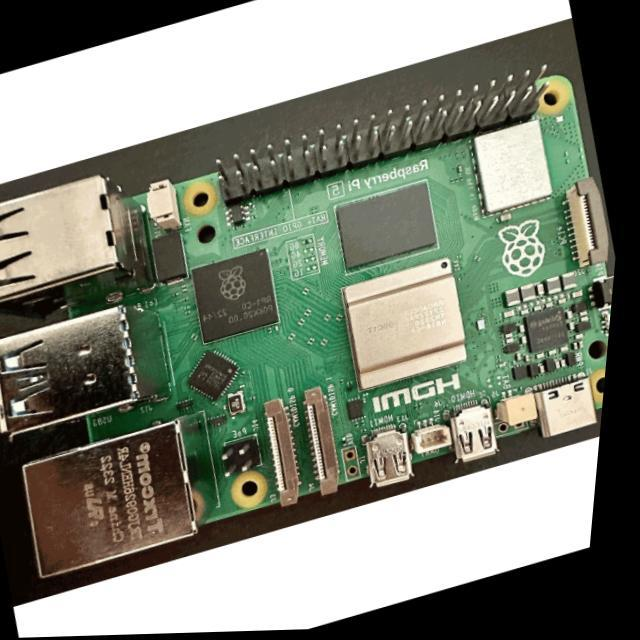Raspberry-Pi-5: (1, 67, 612, 578)
